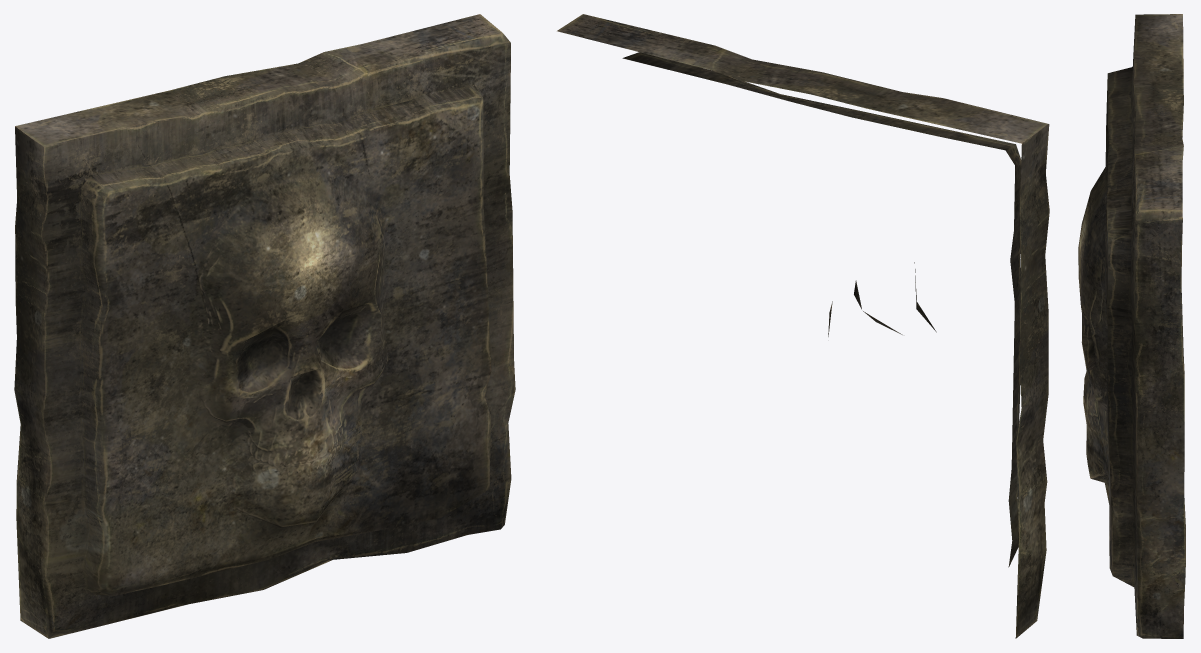
Rendered from skull_ornament_2.glb.
3 renders of one model, left to right at view 1: azimuth 30°, elevation 25°; view 2: azimuth 150°, elevation 25°; view 3: azimuth 270°, elevation 25°, orthographic. The views are drawn at different scales.
Parts seen in each view (by area): view 1: skullornament; view 2: skullornament; view 3: skullornament.
Part boxes in pixels (bbox=[...]): skullornament: bbox=[14, 14, 515, 638]; skullornament: bbox=[557, 14, 1049, 638]; skullornament: bbox=[1078, 14, 1185, 638].
Bounding box in the file's own units: 0.9558 × 0.9549 × 0.2178.
Materials: 1 (1 with a texture image).
